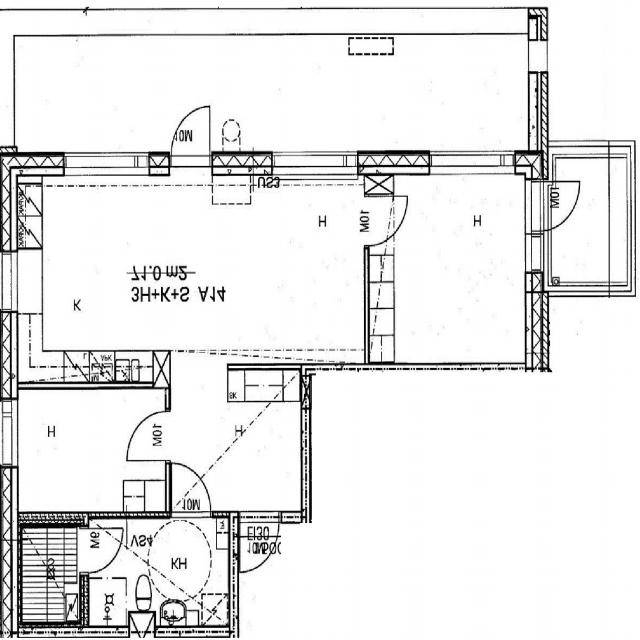door: (524, 181, 588, 231), (171, 101, 210, 174), (241, 511, 279, 572), (364, 197, 408, 246), (172, 462, 210, 518), (128, 411, 170, 459), (80, 528, 123, 572)
